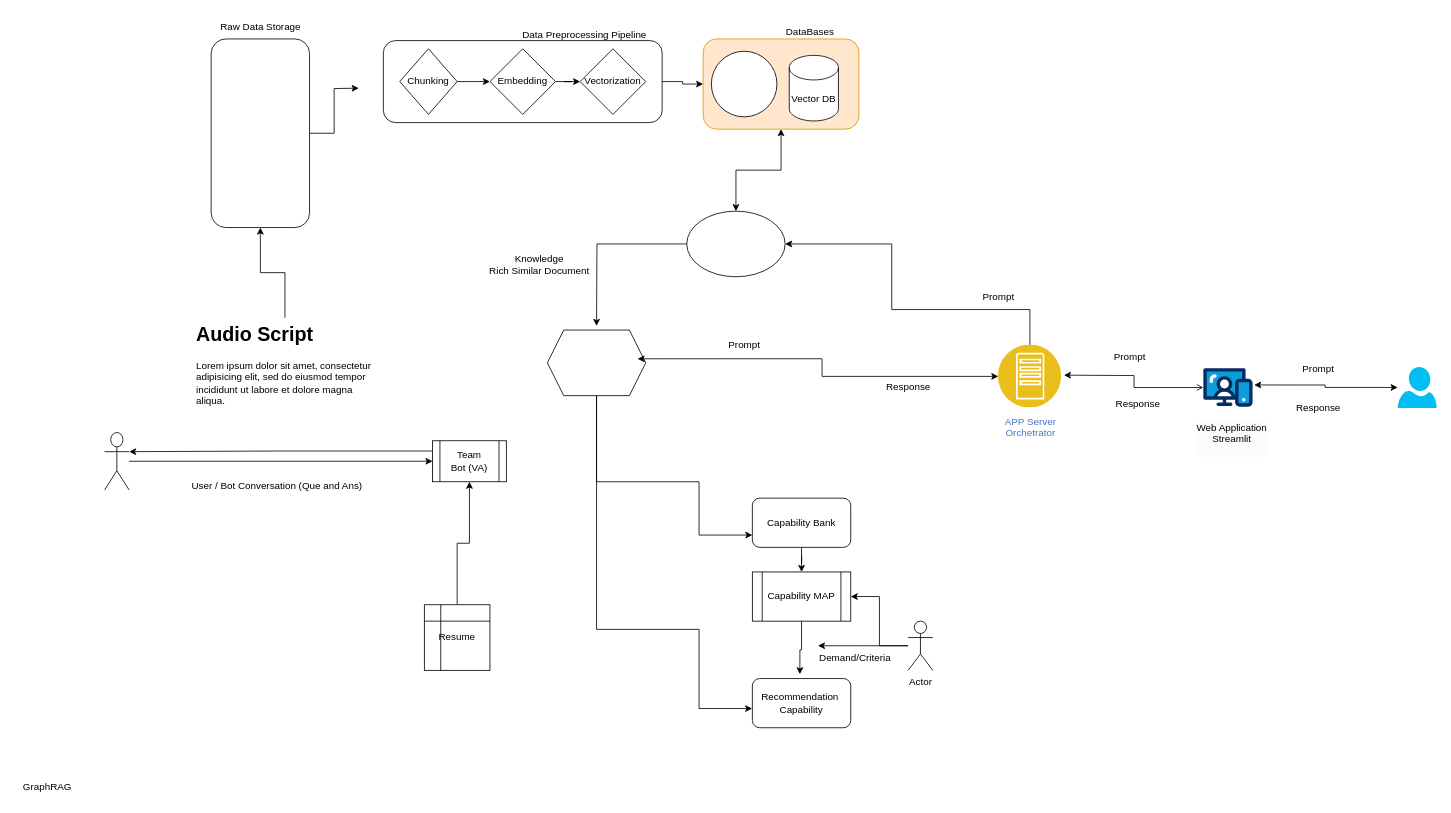
This 1451x813 diagram has some shape labels left out. The centre of each missing label's shape, as x and y in pixels:
AI Search IRS: the point at 735,243
Azure Open AI LLM: the point at 596,362
Data Source Structure and Ubnstructurec: the point at 260,133
Interviewee: the point at 116,461
Neo4J/ Graph: the point at 744,83
